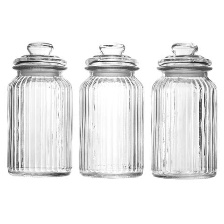bottle: (147, 40, 223, 182), (76, 36, 147, 184), (4, 36, 74, 181)
